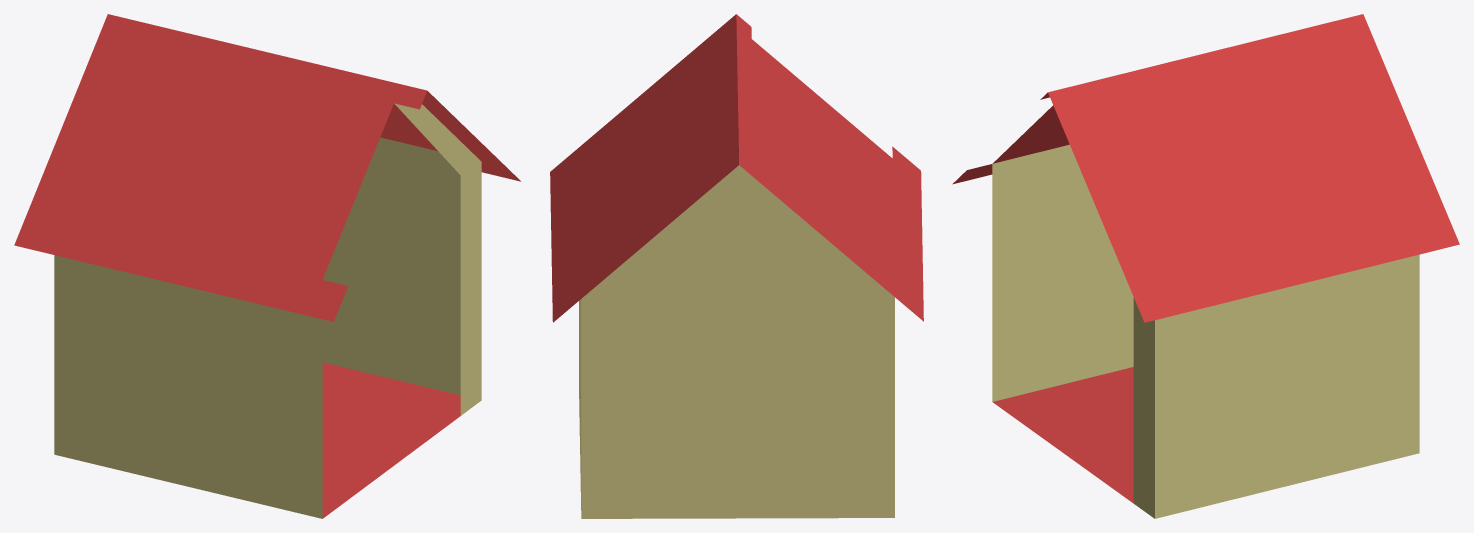
3 views of the same model, side by side, from view 1: azimuth 30°, elevation 25°; view 2: azimuth 150°, elevation 25°; view 3: azimuth 270°, elevation 25° (orthographic). The views are drawn at different scales.
Size of the model in its own units: 13.09 by 12.96 by 10.54.
